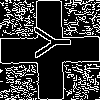Y: (25, 25, 72, 59)
